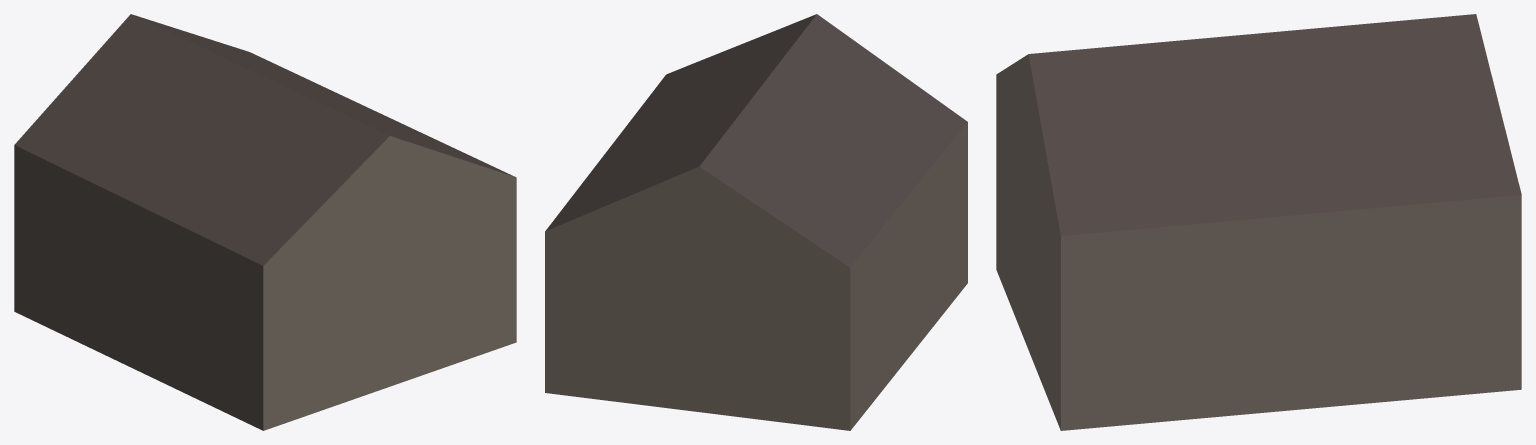
The picture shows the model from 3 angles, left to right: view 1: azimuth 30°, elevation 25°; view 2: azimuth 150°, elevation 25°; view 3: azimuth 270°, elevation 25°; orthographic projection. The views are drawn at different scales.
Visible parts, largest first — view 1: HP-w1198843240; view 2: HP-w1198843240; view 3: HP-w1198843240.
Part boxes in pixels (bbox=[...]): HP-w1198843240: bbox=[14, 14, 516, 430]; HP-w1198843240: bbox=[545, 14, 967, 430]; HP-w1198843240: bbox=[996, 14, 1521, 430].
Bounding box in the file's own units: 13.14 × 9.12 × 14.68.
